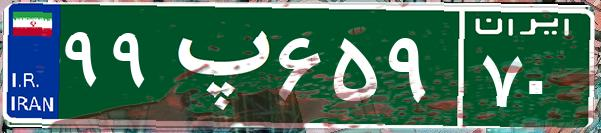0: (525, 38, 570, 115)
5: (330, 28, 385, 110)
6: (273, 28, 330, 110)
7: (475, 38, 525, 113)
9: (385, 28, 445, 110), (57, 26, 110, 107), (110, 28, 158, 105)
پ: (158, 15, 273, 115)
